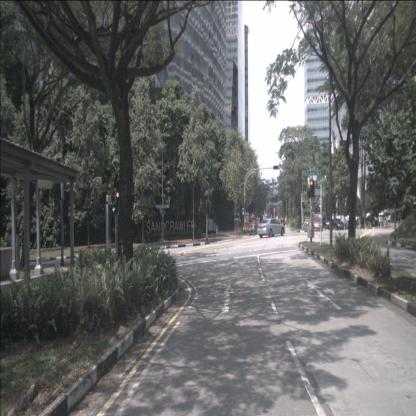barrier: (242, 222, 248, 231), (247, 222, 252, 231), (252, 222, 255, 230)
